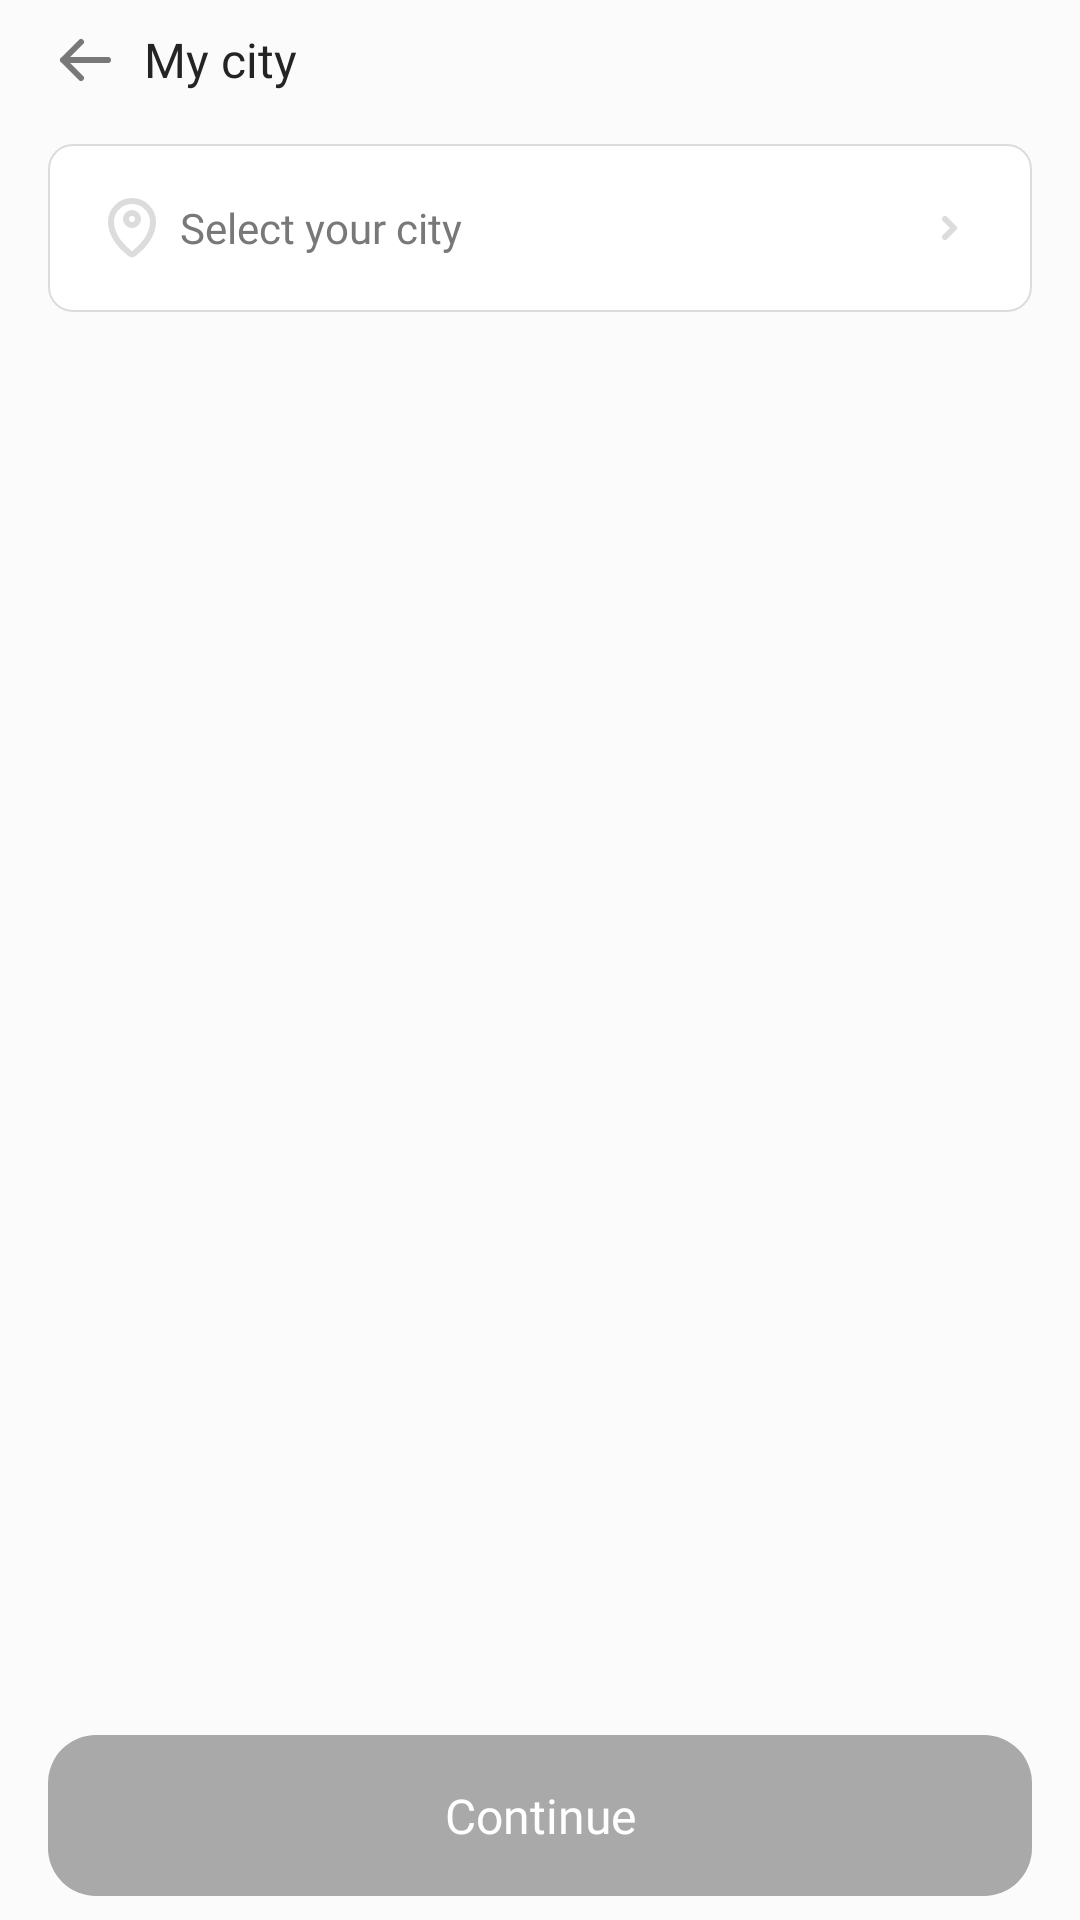

Icons on this 1080 x 1920 Android screen, each with the point to tap as (x,y):
Back: (85,60)
choose city: (949,228)
